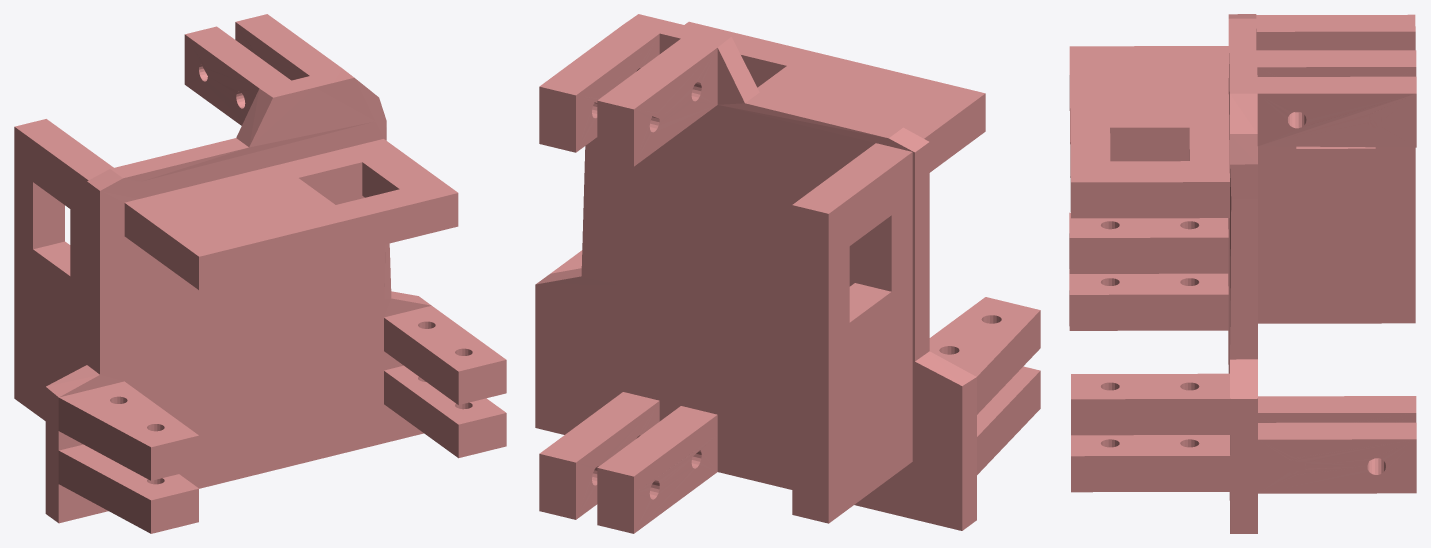
Rendered from Piece 12.obj.
The picture shows the model from 3 angles, left to right: view 1: azimuth 30°, elevation 25°; view 2: azimuth 150°, elevation 25°; view 3: azimuth 270°, elevation 25°; orthographic projection. The views are drawn at different scales.
Visible parts, largest first — view 1: Object.1; view 2: Object.1; view 3: Object.1.
Boxes of the visible parts, x1=… form: Object.1: x1=14, y1=14, x2=506, y2=533; Object.1: x1=535, y1=14, x2=1040, y2=533; Object.1: x1=1069, y1=14, x2=1416, y2=533.
Size of the model in its own units: 58.35 by 55.5 by 43.69.
